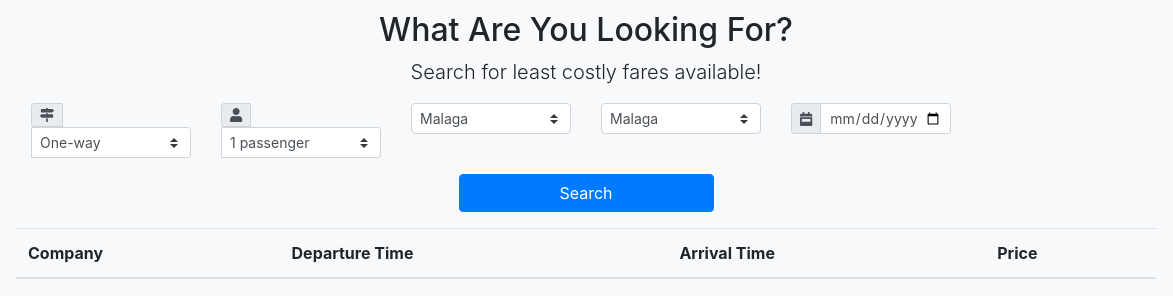
Test: SearchEngine.vue › Should show return date input when roundtrip is selected
Select "Round trip" in the dropdown with id "inputJourneyType": coordinates (111, 143) [31,127,191,158]
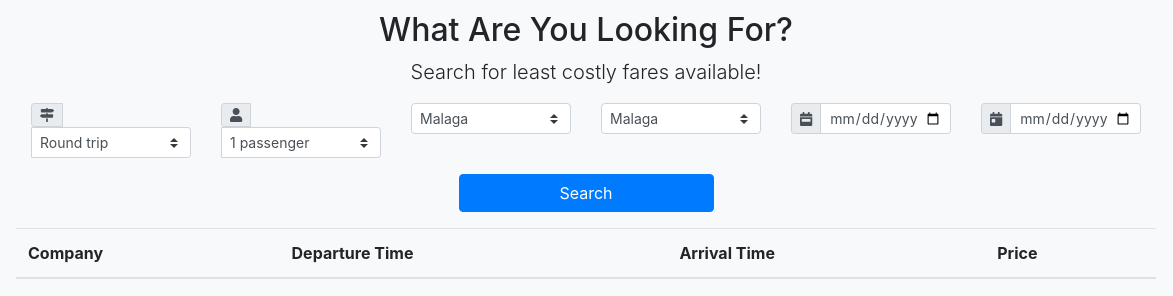
Expected: the date field with id "inputReturnDate" is shown, [1010,103,1141,134]
